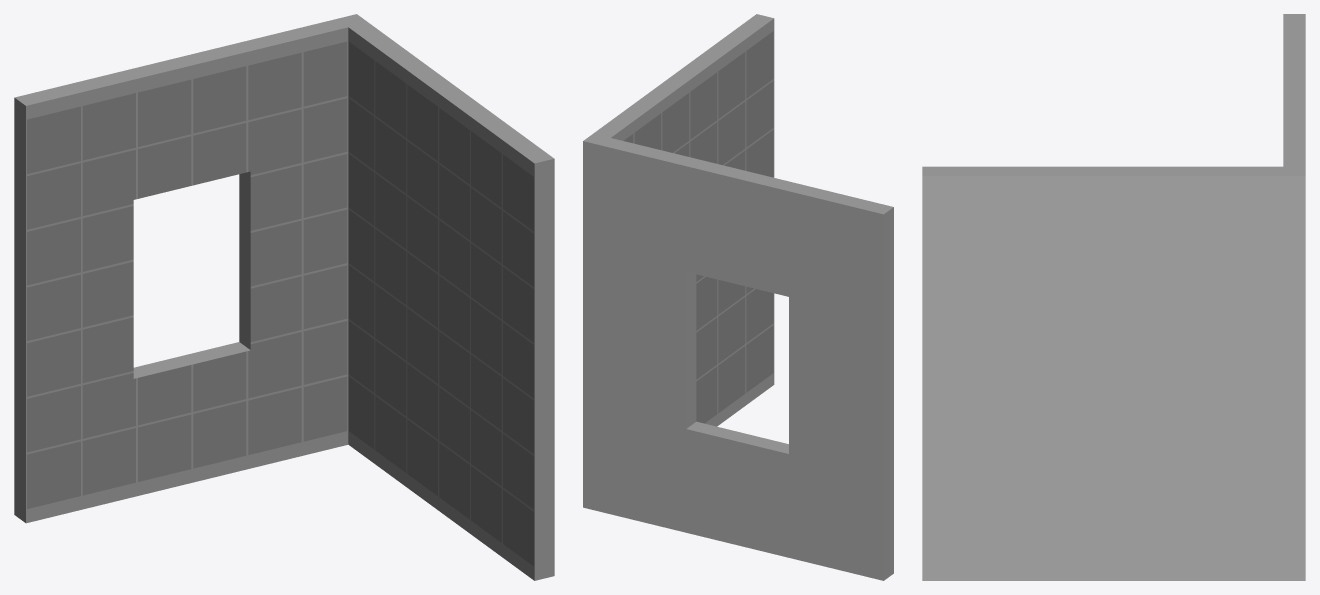
The model's file is Wall1_C7_07.fbx.
3 views of the same model, side by side, from view 1: azimuth 30°, elevation 25°; view 2: azimuth 150°, elevation 25°; view 3: azimuth 270°, elevation 25° (orthographic). The views are drawn at different scales.
Visible parts, largest first — view 1: Wall1_C7_07; view 2: Wall1_C7_07; view 3: Wall1_C7_07.
Part boxes in pixels (x1,y1,x2,y2): Wall1_C7_07: [14, 14, 554, 580]; Wall1_C7_07: [583, 14, 893, 580]; Wall1_C7_07: [922, 14, 1305, 580].
Size of the model in its own units: 258 by 300 by 258.
